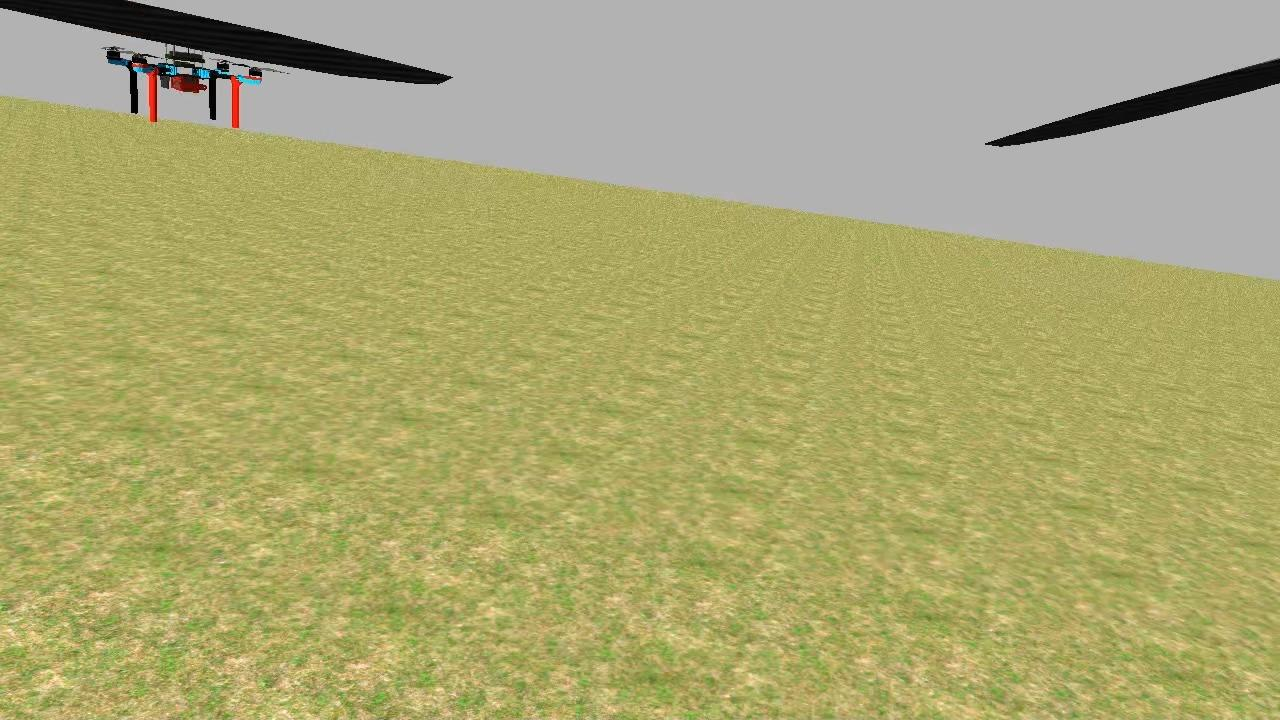UAV: (94, 40, 266, 132)
